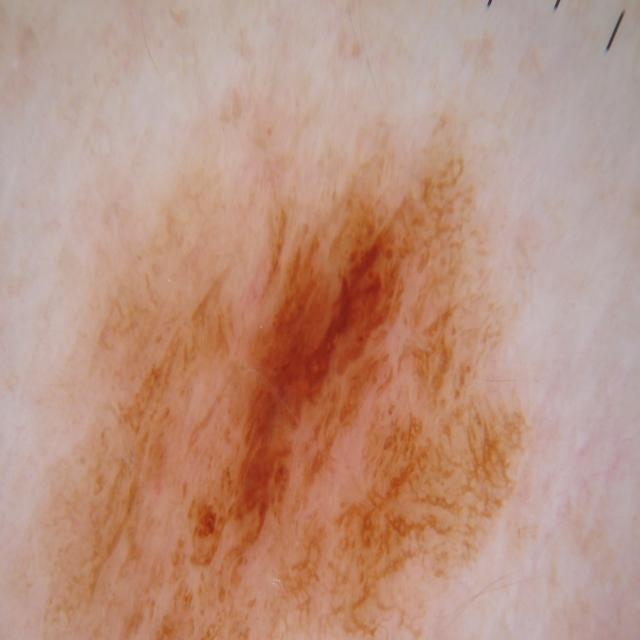Melanoma: (28, 129, 557, 640)
